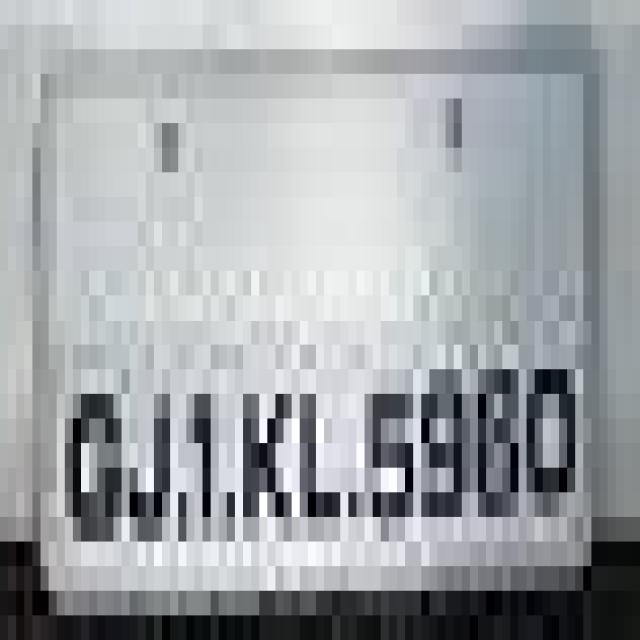plate: (16, 24, 600, 616)
